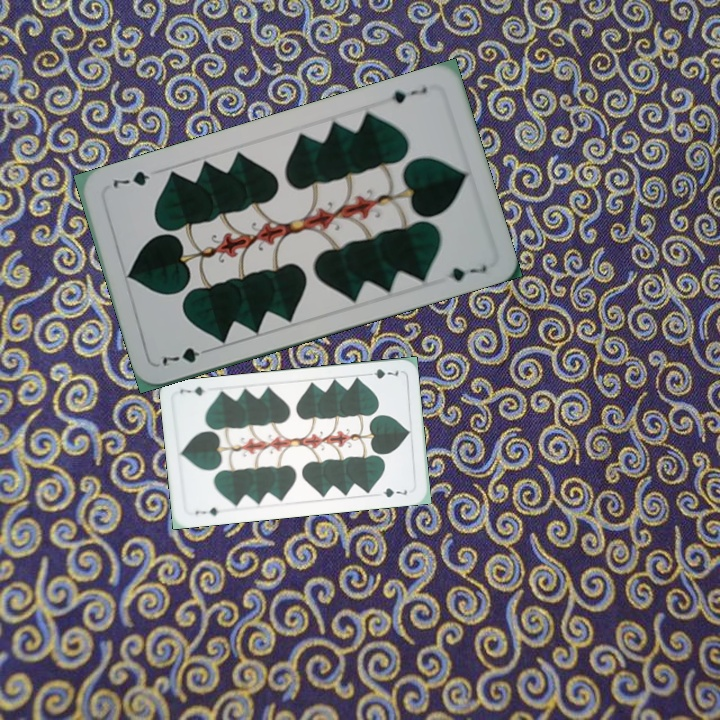G7: (158, 343, 214, 369), (387, 83, 430, 106), (361, 365, 401, 381), (191, 503, 221, 518)
